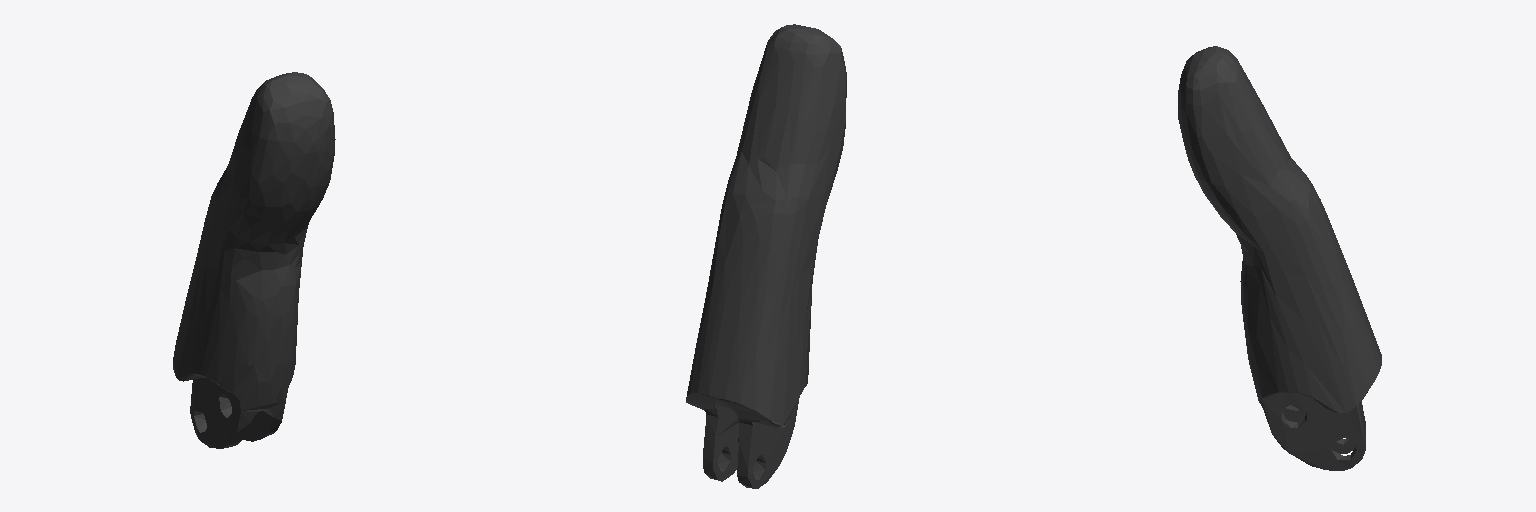
Rendered from R_ring_distal.obj.
3 views of the same model, side by side, from view 1: azimuth 30°, elevation 25°; view 2: azimuth 150°, elevation 25°; view 3: azimuth 270°, elevation 25° (orthographic).
Bounding box in the file's own units: 0.0125 × 0.0512 × 0.0232.